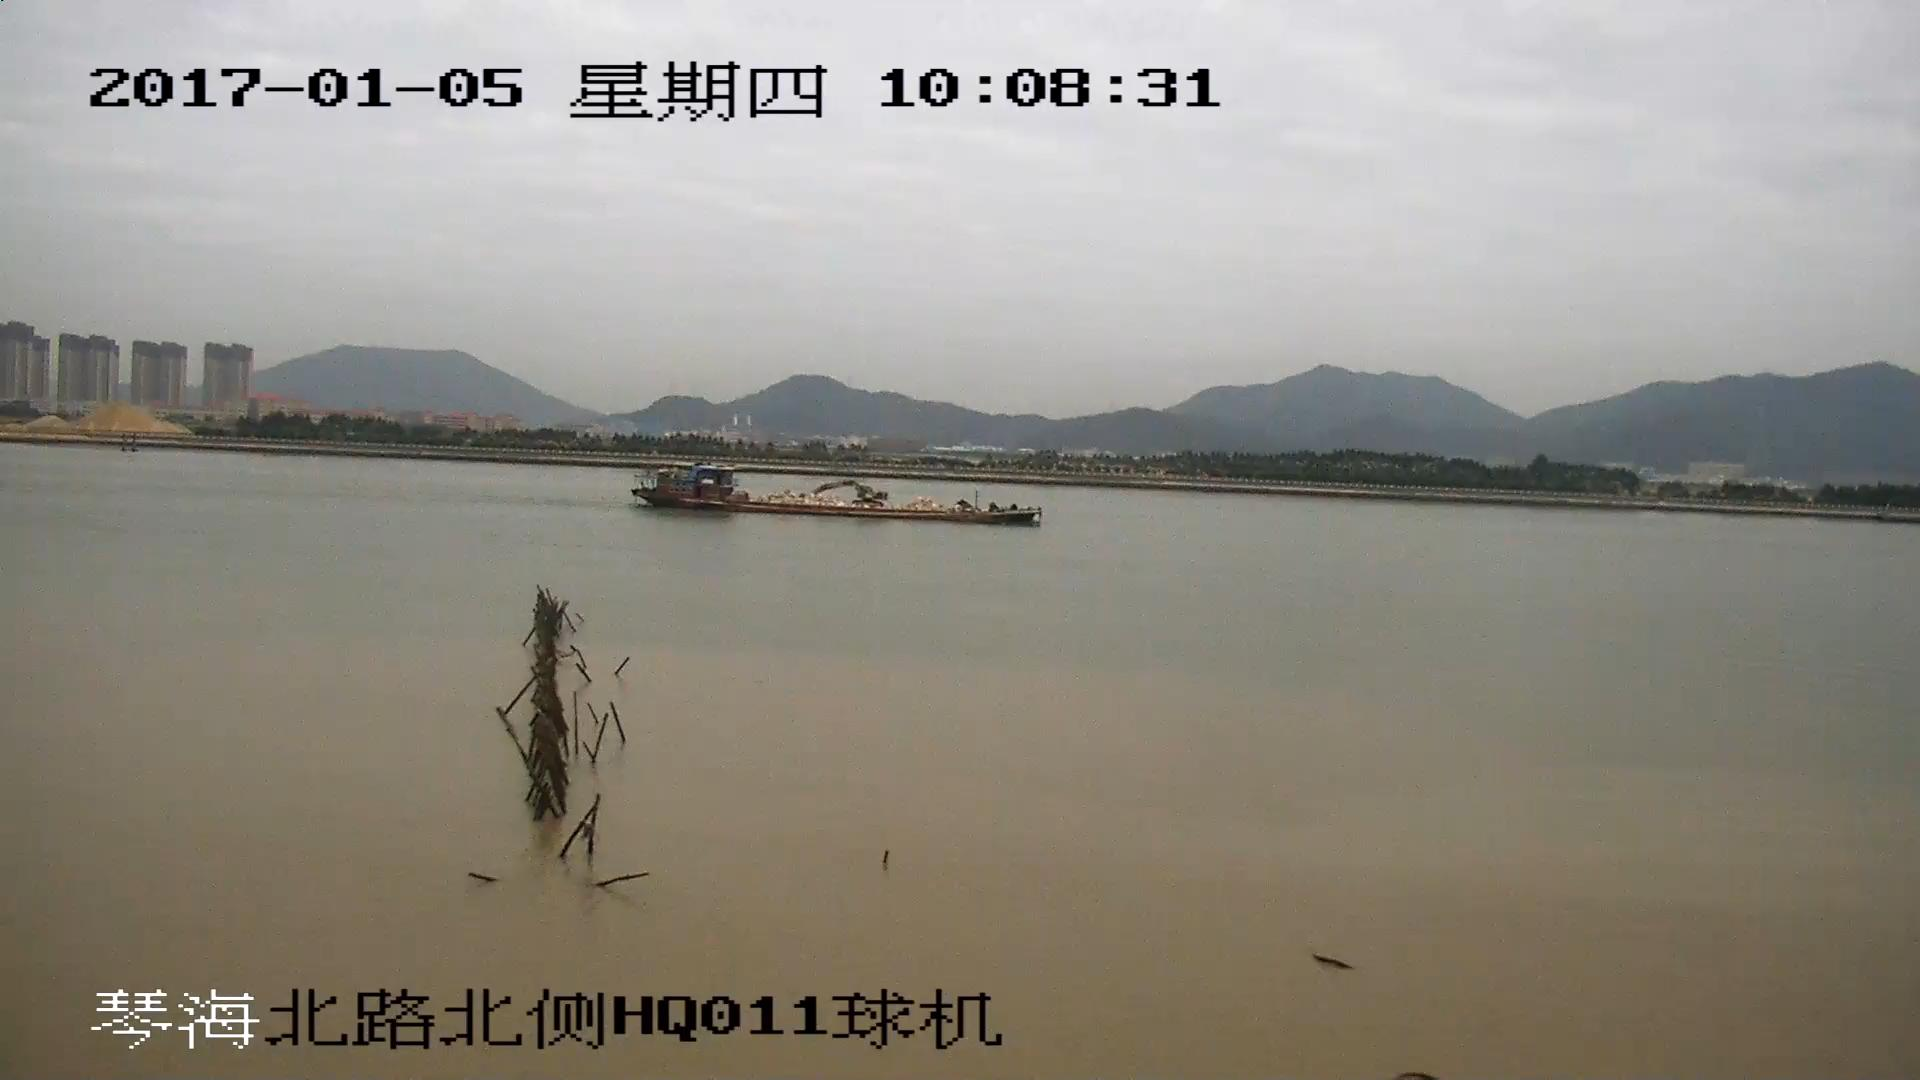bulk cargo carrier: (631, 463, 1041, 524)
